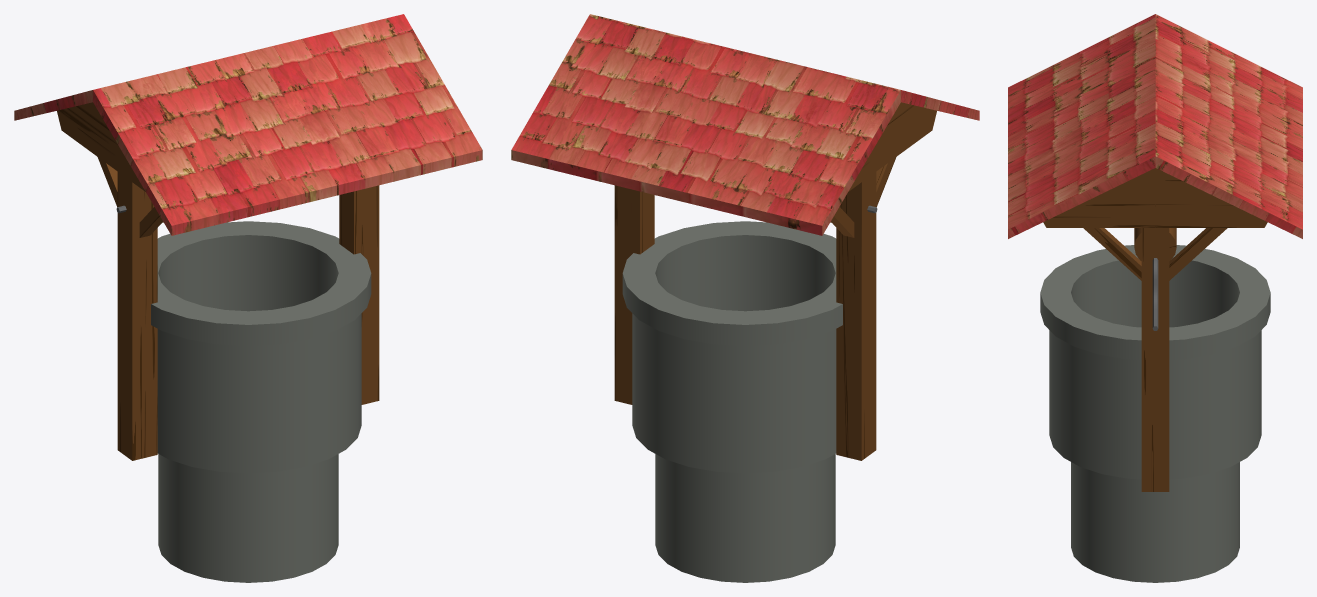
File: Pit.fbx
The picture shows the model from 3 angles, left to right: view 1: azimuth 30°, elevation 25°; view 2: azimuth 150°, elevation 25°; view 3: azimuth 270°, elevation 25°; orthographic projection. The views are drawn at different scales.
Parts seen in each view (by area): view 1: Cube; view 2: Cube; view 3: Cube.
Boxes of the visible parts, x1,y1,x2,y2 form: Cube: [14, 14, 482, 582]; Cube: [511, 14, 979, 582]; Cube: [1008, 14, 1302, 582].
Bounding box in the file's own units: 2.66 × 3.46 × 2.
